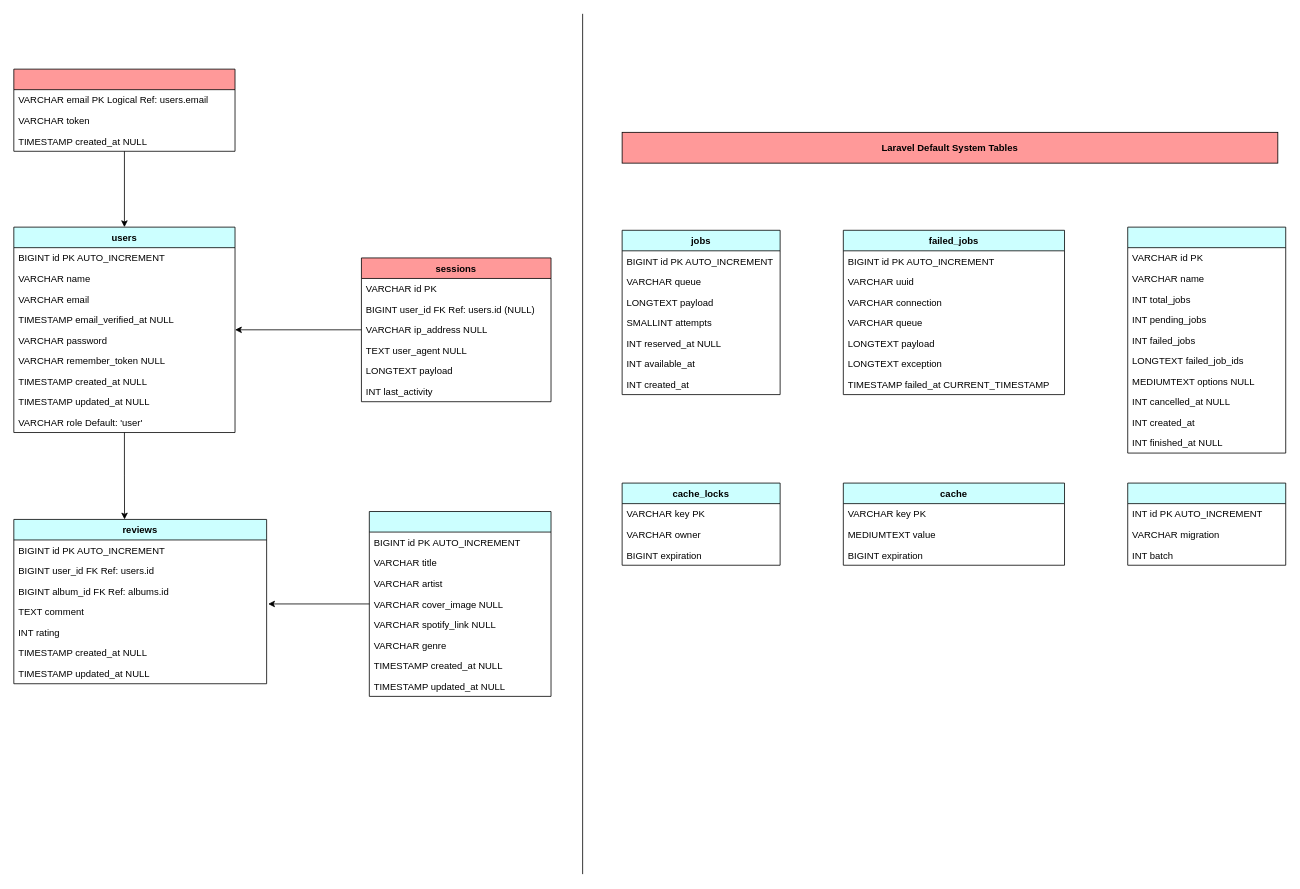
Image size: 1300x889. Some labels were removed from this diagram. Here are the shapes that lost their labels. From the top down, the box of each, then its label:
(13, 68, 235, 151): password_reset_tokens
(1127, 226, 1286, 453): job_batches
(1127, 482, 1286, 565): migrations
(369, 511, 551, 696): albums
